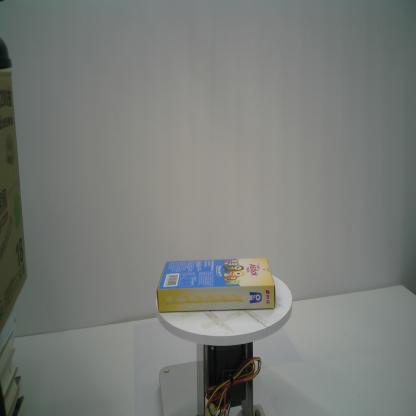Dessert: (155, 255, 278, 314)
